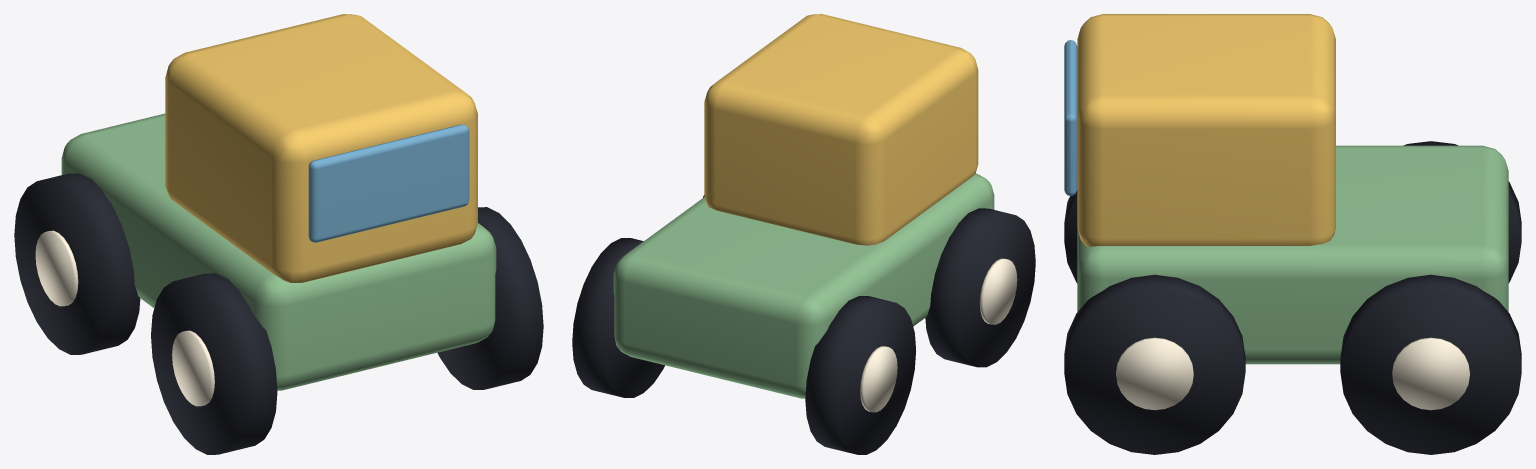
Rendered from word-tractor.glb.
The picture shows the model from 3 angles, left to right: view 1: azimuth 30°, elevation 25°; view 2: azimuth 150°, elevation 25°; view 3: azimuth 270°, elevation 25°; orthographic projection. The views are drawn at different scales.
Parts seen in each view (by area): view 1: cabin, vehicle body, rubber wheel, rubber wheel.001, windshield, rubber wheel.002, wheel hub, wheel hub.001; view 2: cabin, vehicle body, rubber wheel.001, rubber wheel, rubber wheel.003, wheel hub.001, wheel hub; view 3: cabin, vehicle body, rubber wheel.002, rubber wheel.003, wheel hub.002, wheel hub.003, windshield, rubber wheel.001, rubber wheel.
Part boxes in pixels (<box>): cabin: <box>165,14,477,282</box>; vehicle body: <box>61,113,496,390</box>; rubber wheel: <box>151,273,277,454</box>; rubber wheel.001: <box>14,173,140,354</box>; windshield: <box>308,124,469,242</box>; rubber wheel.002: <box>437,207,543,389</box>; wheel hub: <box>172,330,214,406</box>; wheel hub.001: <box>35,230,78,306</box>; cabin: <box>704,14,978,245</box>; vehicle body: <box>613,173,994,398</box>; rubber wheel.001: <box>805,296,915,454</box>; rubber wheel: <box>925,208,1035,367</box>; rubber wheel.003: <box>572,238,664,397</box>; wheel hub.001: <box>860,346,897,412</box>; wheel hub: <box>979,258,1017,324</box>; cabin: <box>1077,14,1335,246</box>; vehicle body: <box>1077,145,1508,364</box>; rubber wheel.002: <box>1064,274,1245,454</box>; rubber wheel.003: <box>1340,274,1521,454</box>; wheel hub.002: <box>1116,337,1193,410</box>; wheel hub.003: <box>1392,337,1469,410</box>; windshield: <box>1064,40,1077,196</box>; rubber wheel.001: <box>1403,141,1521,283</box>; rubber wheel: <box>1064,190,1077,283</box>.
Bounding box in the file's own units: 0.844 × 0.83 × 1.06.
